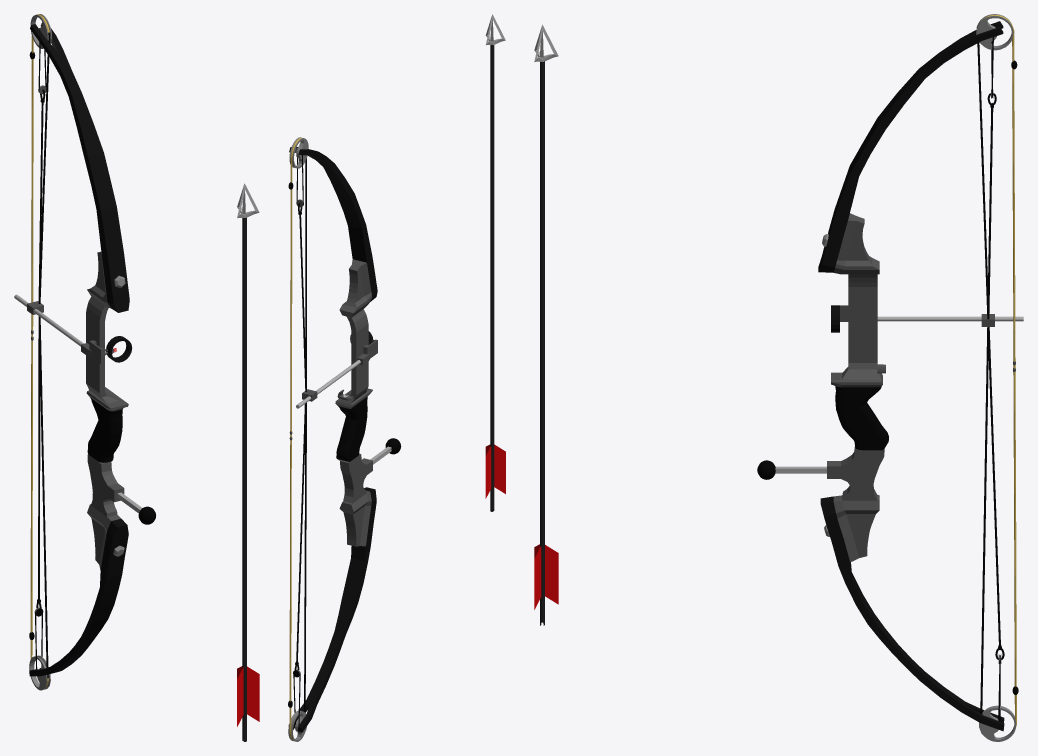
Rendered from Compond Bow_1.fbx.
The picture shows the model from 3 angles, left to right: view 1: azimuth 30°, elevation 25°; view 2: azimuth 150°, elevation 25°; view 3: azimuth 270°, elevation 25°; orthographic projection. The views are drawn at different scales.
Visible parts, largest first — view 1: Frame, Cylinder.001, Bow String, Bow Cable, Bow Cable.001, Plane, Sight, Cam, Cable Guard; view 2: Frame, Cylinder.001, Bow String, Bow Cable, Bow Cable.001, Plane, Cam, Cable Guard; view 3: Frame, Cylinder.001, Bow String, Bow Cable.001, Bow Cable, Plane, Cam, Cable Guard.
Part boxes in pixels (x1=…): Frame: x1=29, y1=22, x2=156, y2=676; Cylinder.001: x1=242, y1=217, x2=246, y2=741; Bow String: x1=30, y1=14, x2=49, y2=688; Bow Cable: x1=38, y1=42, x2=48, y2=678; Bow Cable.001: x1=34, y1=32, x2=50, y2=669; Plane: x1=237, y1=666, x2=259, y2=726; Sight: x1=81, y1=336, x2=132, y2=364; Cam: x1=29, y1=14, x2=51, y2=690; Cable Guard: x1=14, y1=294, x2=83, y2=346; Frame: x1=288, y1=147, x2=401, y2=732; Cylinder.001: x1=490, y1=45, x2=494, y2=511; Bow String: x1=289, y1=138, x2=302, y2=740; Bow Cable: x1=296, y1=155, x2=306, y2=712; Bow Cable.001: x1=293, y1=158, x2=306, y2=725; Plane: x1=485, y1=444, x2=505, y2=498; Cam: x1=288, y1=137, x2=308, y2=741; Cable Guard: x1=296, y1=360, x2=360, y2=408; Frame: x1=757, y1=21, x2=1004, y2=731; Cylinder.001: x1=540, y1=61, x2=544, y2=625; Bow String: x1=981, y1=14, x2=1016, y2=726; Bow Cable.001: x1=977, y1=27, x2=1004, y2=721; Bow Cable: x1=980, y1=37, x2=996, y2=714; Plane: x1=534, y1=544, x2=558, y2=609; Cam: x1=976, y1=14, x2=1016, y2=741; Cable Guard: x1=877, y1=314, x2=1023, y2=326.
Size of the model in its own units: 64.83 by 1264 by 772.
